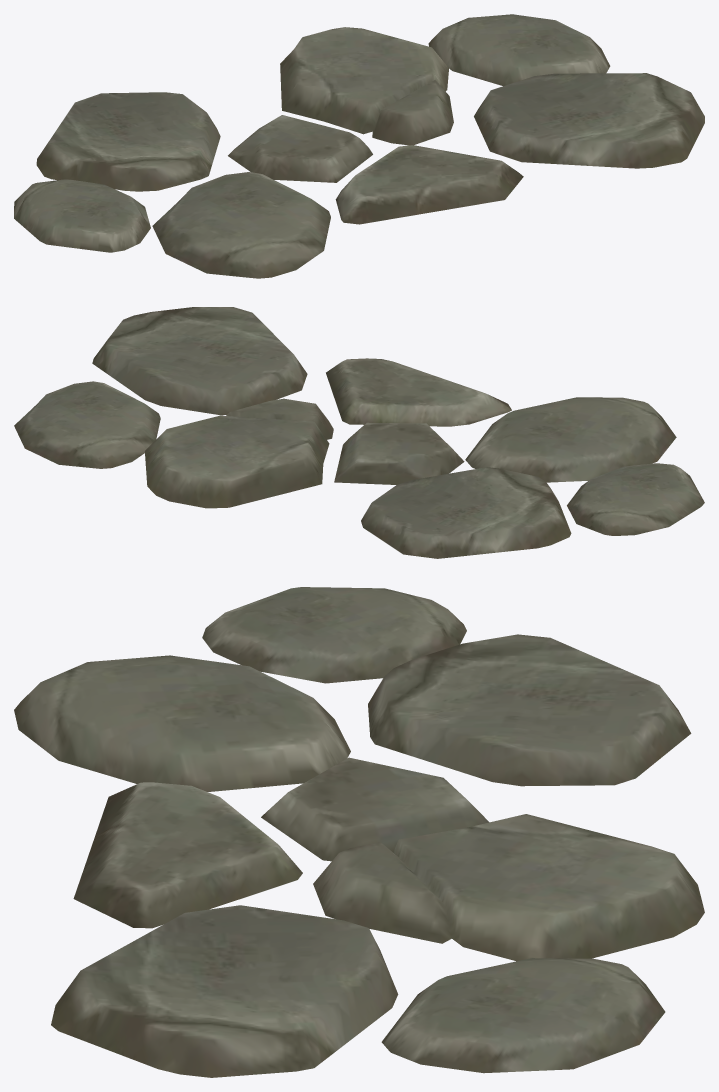
3 renders of one model, top to bottom at view 1: azimuth 30°, elevation 25°; view 2: azimuth 150°, elevation 25°; view 3: azimuth 270°, elevation 25°, orthographic. The views are drawn at different scales.
Bounding box in the file's own units: 6.37 × 0.2521 × 3.87.
1 material, 1 textured.
